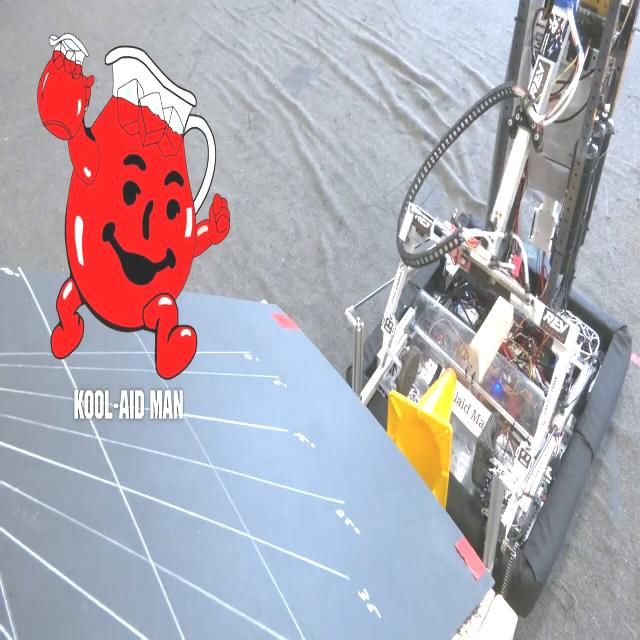frc_cone: (380, 350, 464, 512)
